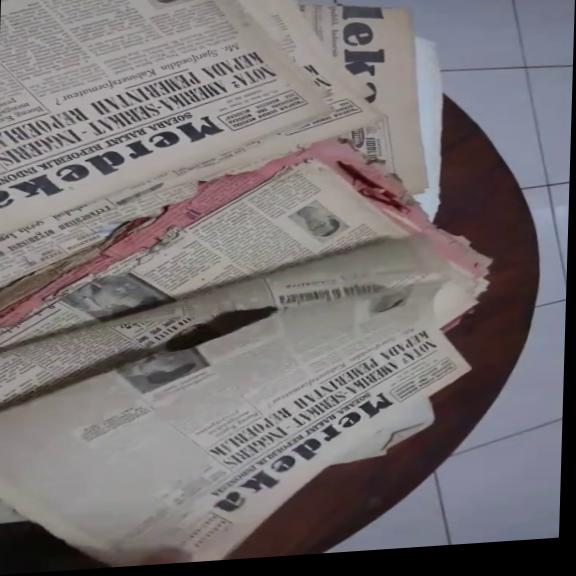Kertas: (0, 8, 389, 486)
